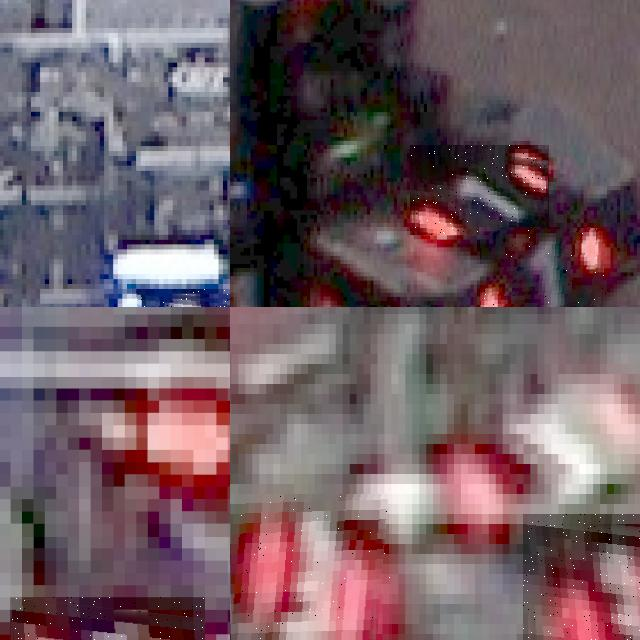R1: (410, 145, 550, 235), (480, 227, 606, 307)
R3: (231, 494, 391, 640), (523, 514, 640, 640)
R4: (10, 597, 204, 640)
